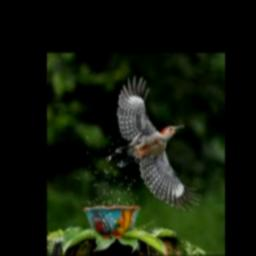Woodpecker: (110, 76, 202, 209)
